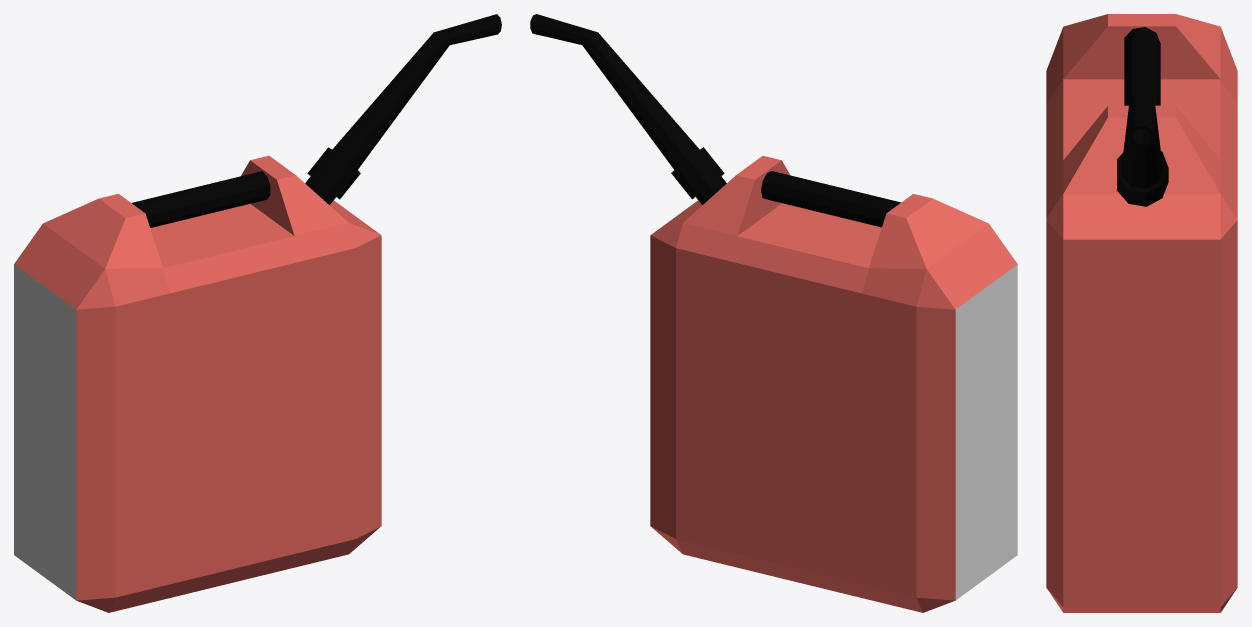
Rendered from Gas Can.fbx.
3 views of the same model, side by side, from view 1: azimuth 30°, elevation 25°; view 2: azimuth 150°, elevation 25°; view 3: azimuth 270°, elevation 25° (orthographic). The views are drawn at different scales.
Parts seen in each view (by area): view 1: Cube; view 2: Cube; view 3: Cube.
Part boxes in pixels (x1,y1,x2,y2): Cube: (14, 14, 501, 612); Cube: (530, 14, 1017, 612); Cube: (1046, 14, 1237, 612).
Bounding box in the file's own units: 84.84 × 84.68 × 24.59.
